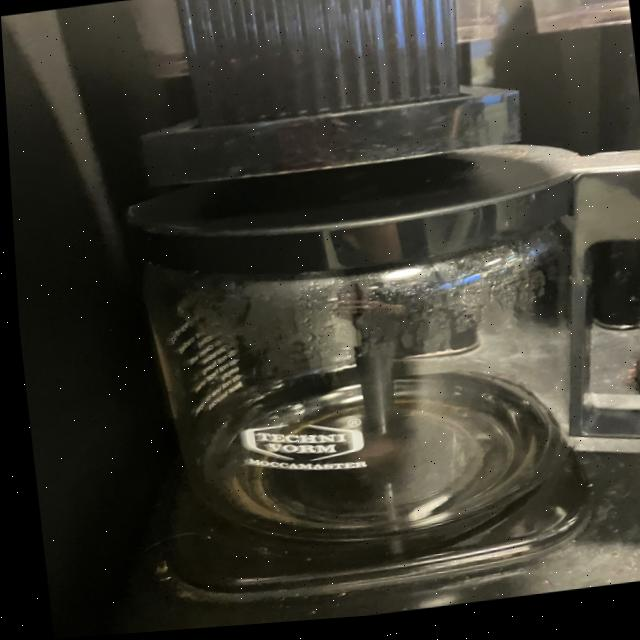nocoffee: (108, 140, 617, 581)
